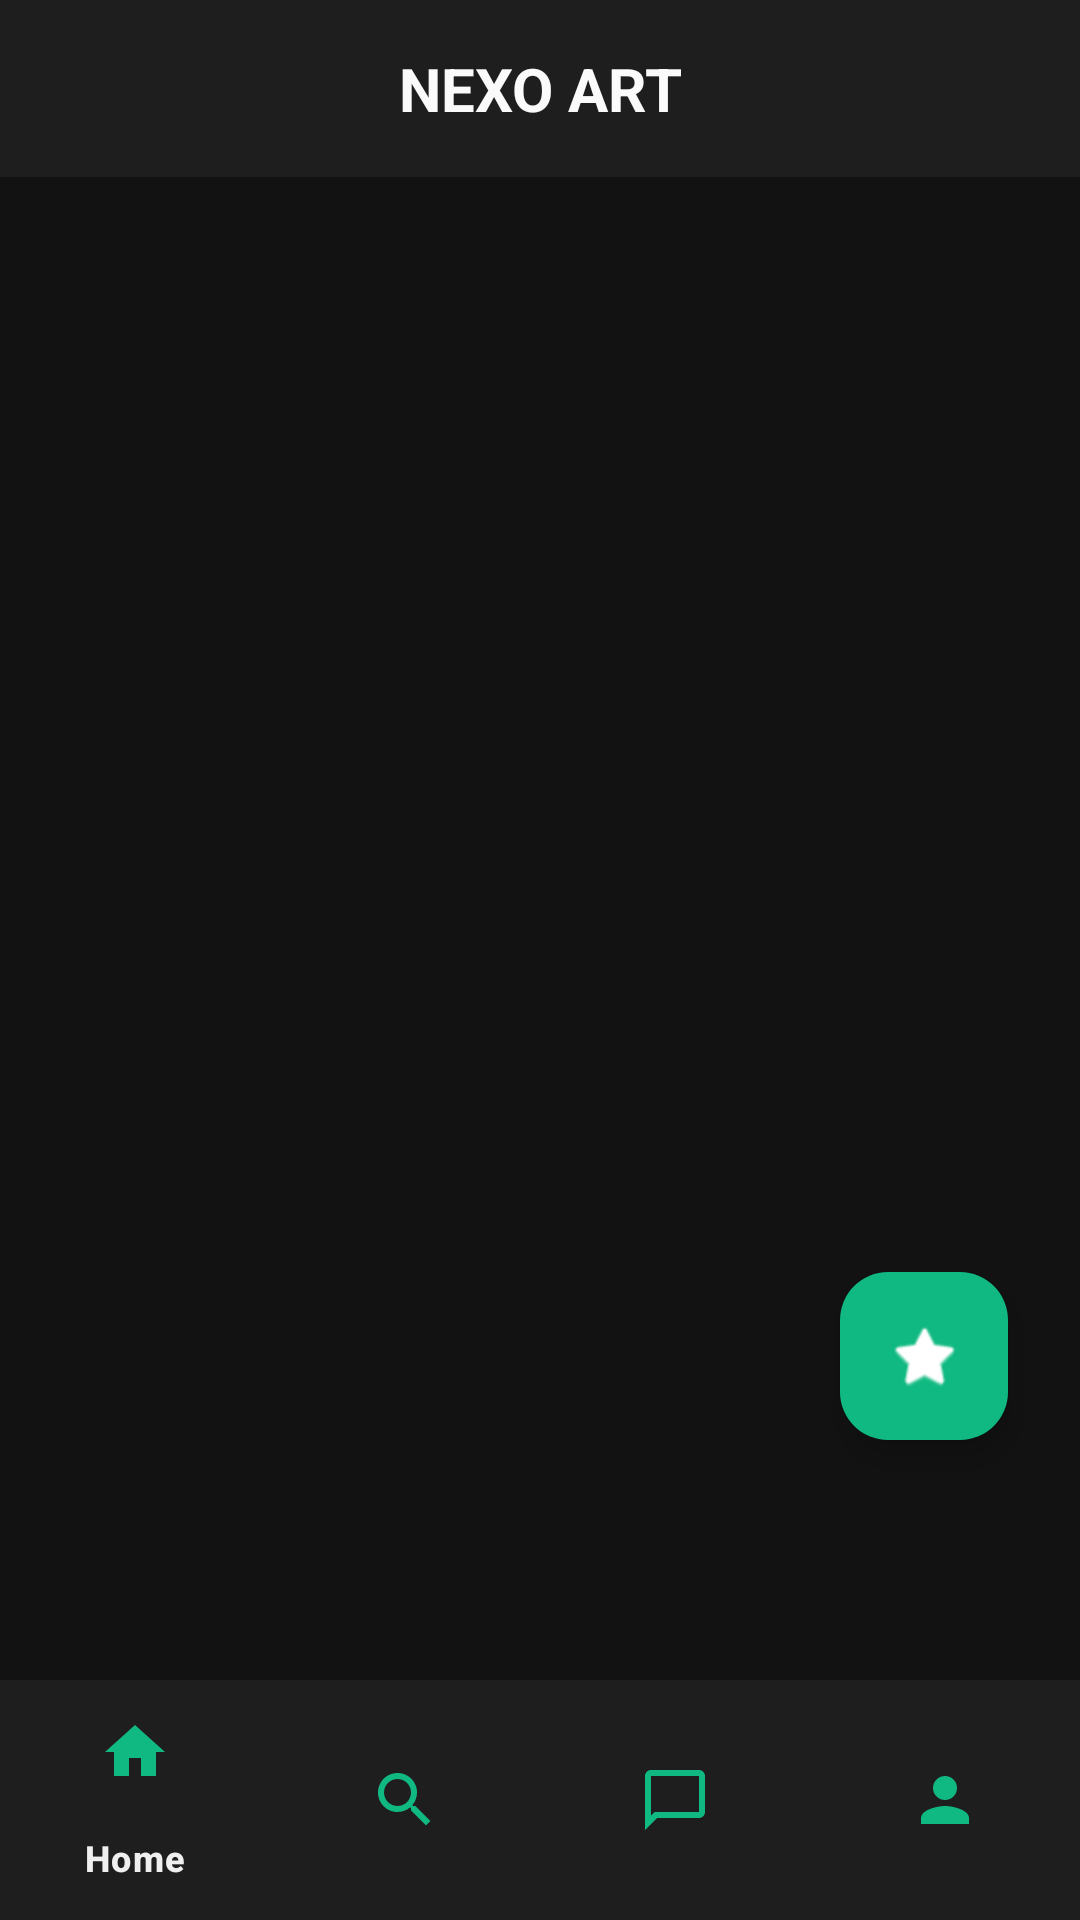

Icon bounding boxes for this 1080 × 1920 phone screenshot, format (x1, y1, x2, y2):
star on: (840, 1272, 1008, 1440)
